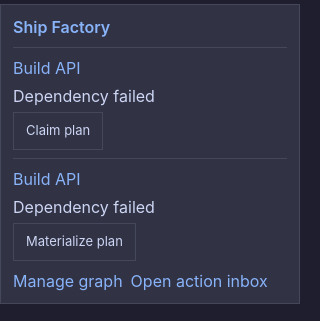
Scenario: Factory human action cards › offers planning and materialization actions on an epic card
The image size is (320, 321).
Click the button "Claim plan". click: (58, 131)
box: 13,112 -> 103,150
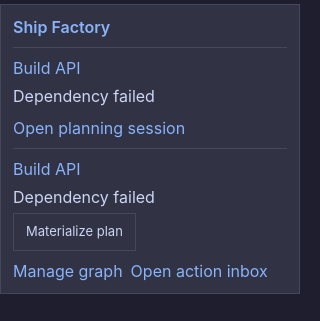
Click the button "Materialize plan". click: (74, 232)
box: 13,213 -> 136,251
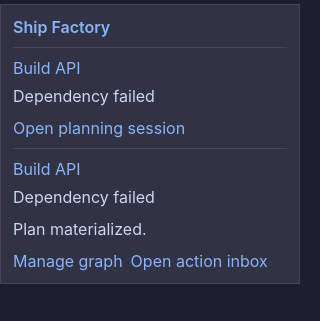
Result: the text "Plan materialized." is shown at 13,219 -> 147,239
